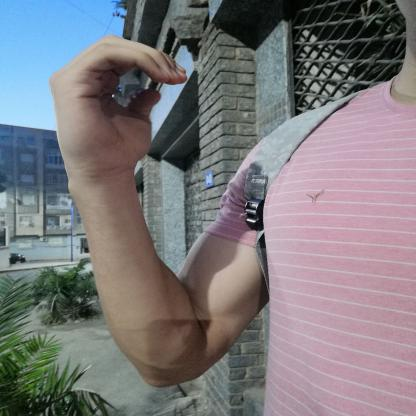JEEM: (39, 26, 196, 184)
